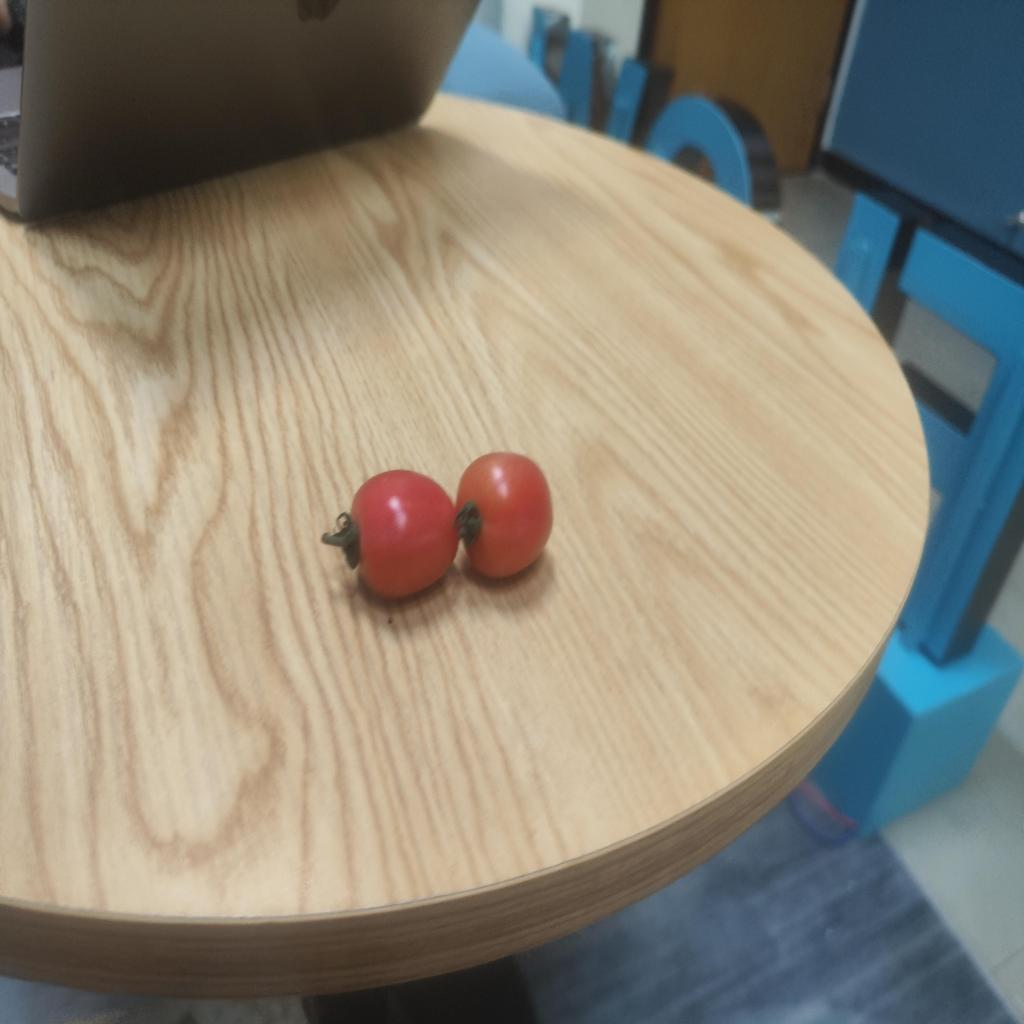tomato: (333, 474, 454, 592), (453, 454, 553, 583)
